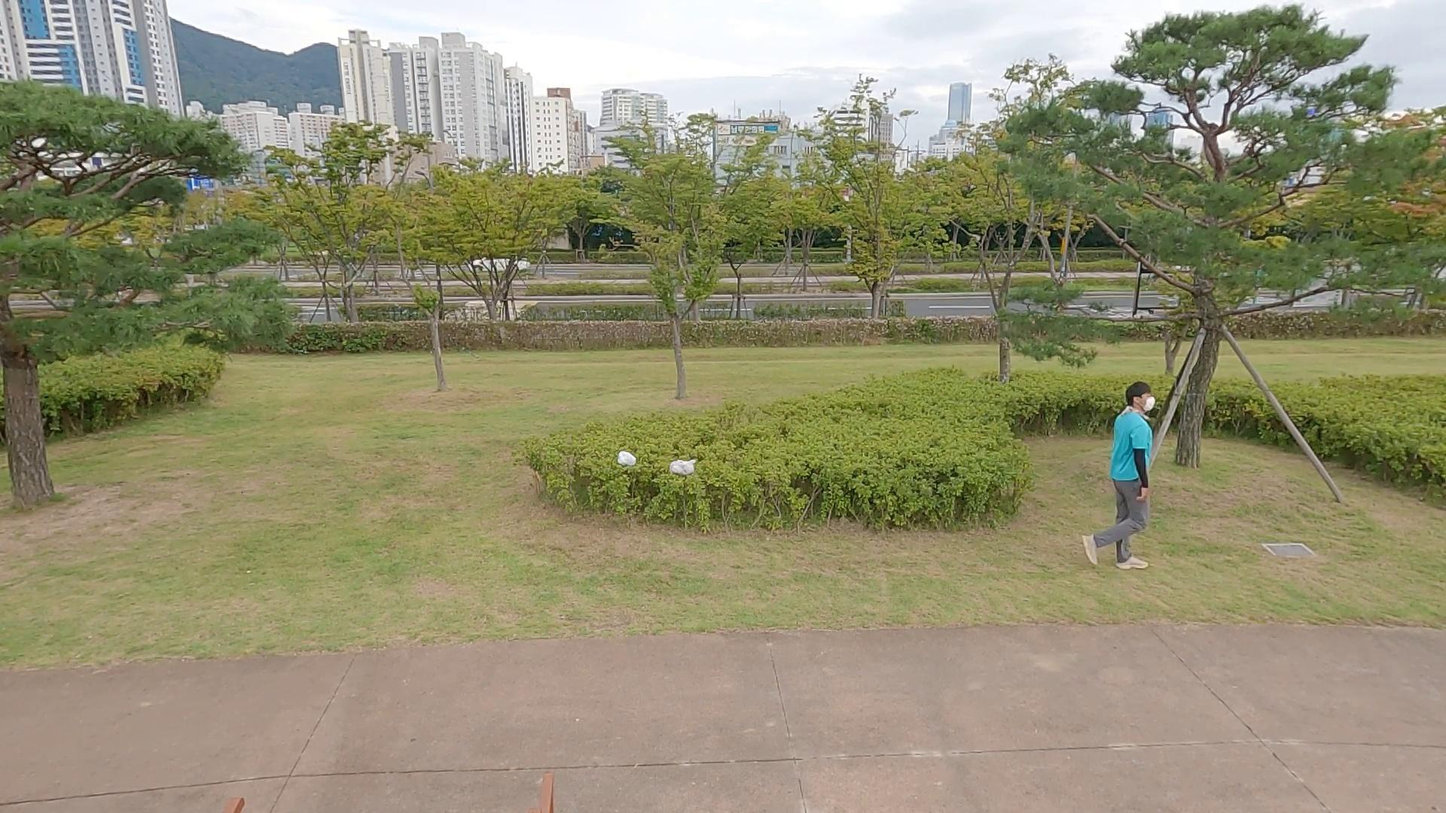person: (1087, 380, 1160, 572)
trash: (665, 453, 703, 483), (615, 444, 641, 471)
